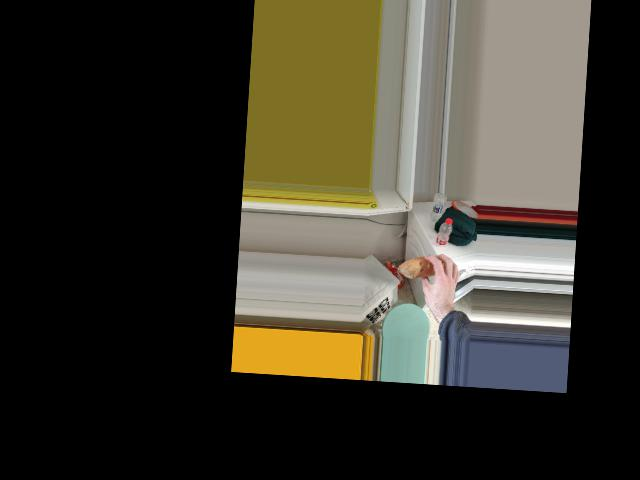sweet_potato: (407, 258, 440, 275)
